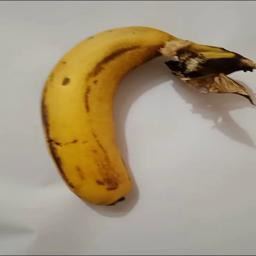Banana Semifresh: (39, 23, 254, 209)
